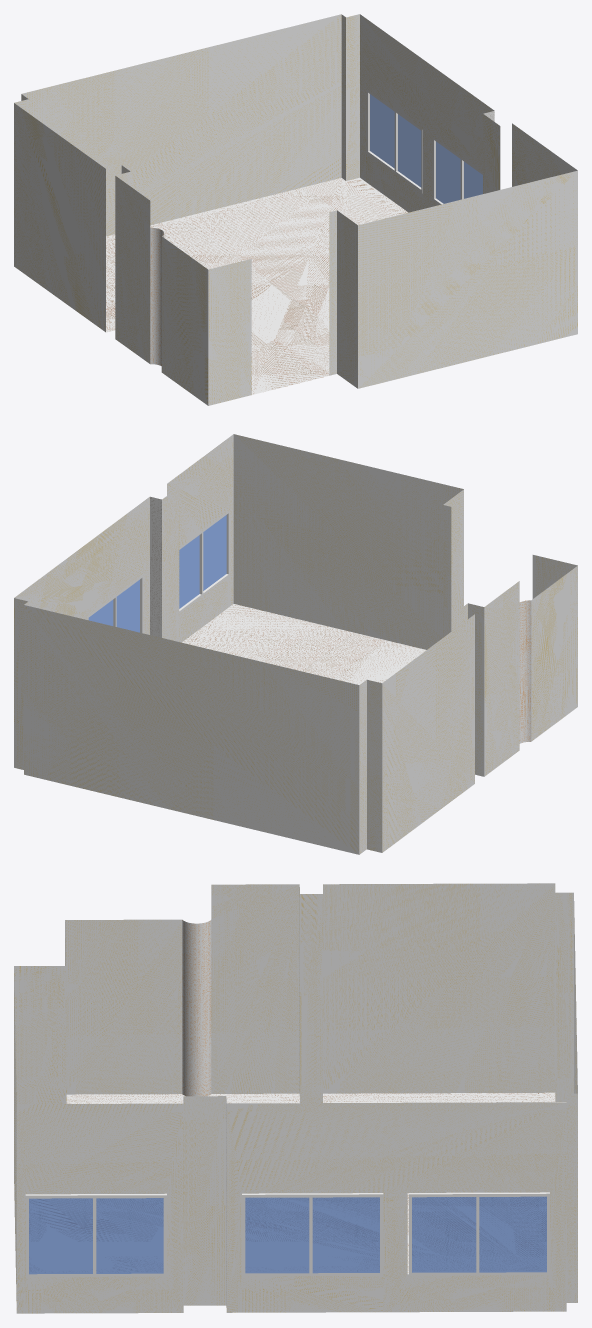
Rendered from LAB007.obj.
3 views of the same model, one above another, from view 1: azimuth 30°, elevation 25°; view 2: azimuth 150°, elevation 25°; view 3: azimuth 270°, elevation 25° (orthographic). The views are drawn at different scales.
Visible parts, largest first — view 1: Mesh16 LAB007_ Model, Mesh11 ventana2_3 LAB007_ Model, Mesh1 ventana2_1 LAB007_ Model; view 2: Mesh16 LAB007_ Model, Mesh6 ventana2_2 LAB007_ Model, Mesh1 ventana2_1 LAB007_ Model; view 3: Mesh16 LAB007_ Model, Mesh1 ventana2_1 LAB007_ Model, Mesh11 ventana2_3 LAB007_ Model, Mesh6 ventana2_2 LAB007_ Model.
Boxes of the visible parts, left/top/right/bottom form: Mesh16 LAB007_ Model: left=14, top=14, right=577, bottom=405; Mesh11 ventana2_3 LAB007_ Model: left=366, top=89, right=422, bottom=192; Mesh1 ventana2_1 LAB007_ Model: left=432, top=137, right=482, bottom=204; Mesh16 LAB007_ Model: left=14, top=434, right=577, bottom=854; Mesh6 ventana2_2 LAB007_ Model: left=179, top=510, right=229, bottom=613; Mesh1 ventana2_1 LAB007_ Model: left=87, top=574, right=143, bottom=633; Mesh16 LAB007_ Model: left=14, top=883, right=577, bottom=1313; Mesh1 ventana2_1 LAB007_ Model: left=242, top=1193, right=383, bottom=1276; Mesh11 ventana2_3 LAB007_ Model: left=409, top=1192, right=549, bottom=1275; Mesh6 ventana2_2 LAB007_ Model: left=25, top=1193, right=166, bottom=1276.
Size of the model in its own units: 8.19 by 3.6 by 8.79.
Materials: 7 (2 with a texture image).
